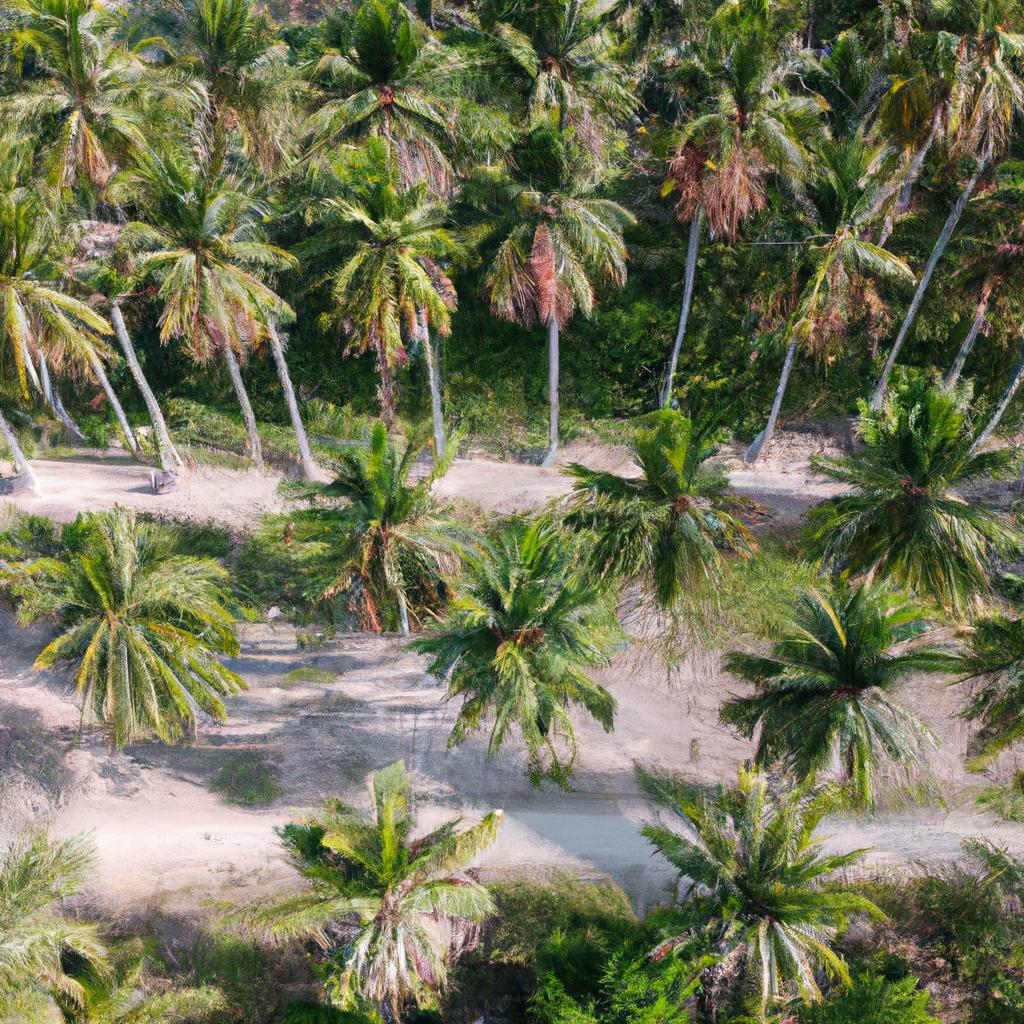coconut_tree: (228, 748, 579, 1021), (0, 442, 263, 756), (708, 529, 938, 823), (386, 490, 616, 761), (803, 340, 1020, 607), (263, 402, 484, 653), (584, 372, 789, 612), (309, 169, 497, 388), (111, 175, 317, 372)
